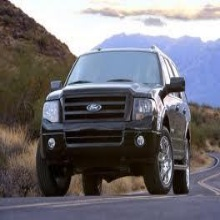no damage: (35, 45, 193, 195)
